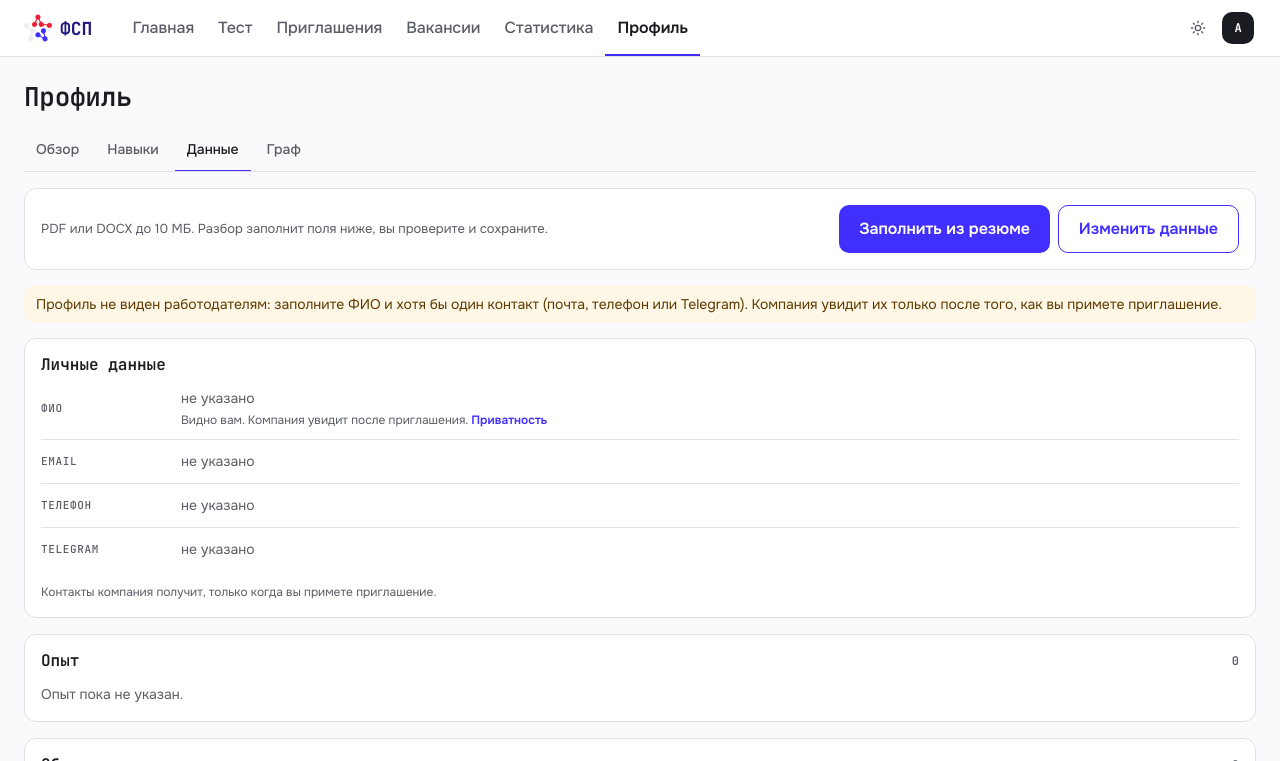
Test: данные: ручная правка — ФИО, контакты и ссылки уходят одним PATCH
Click the button with test id "profile-data-edit": (1148, 229) [1058,205,1239,253]
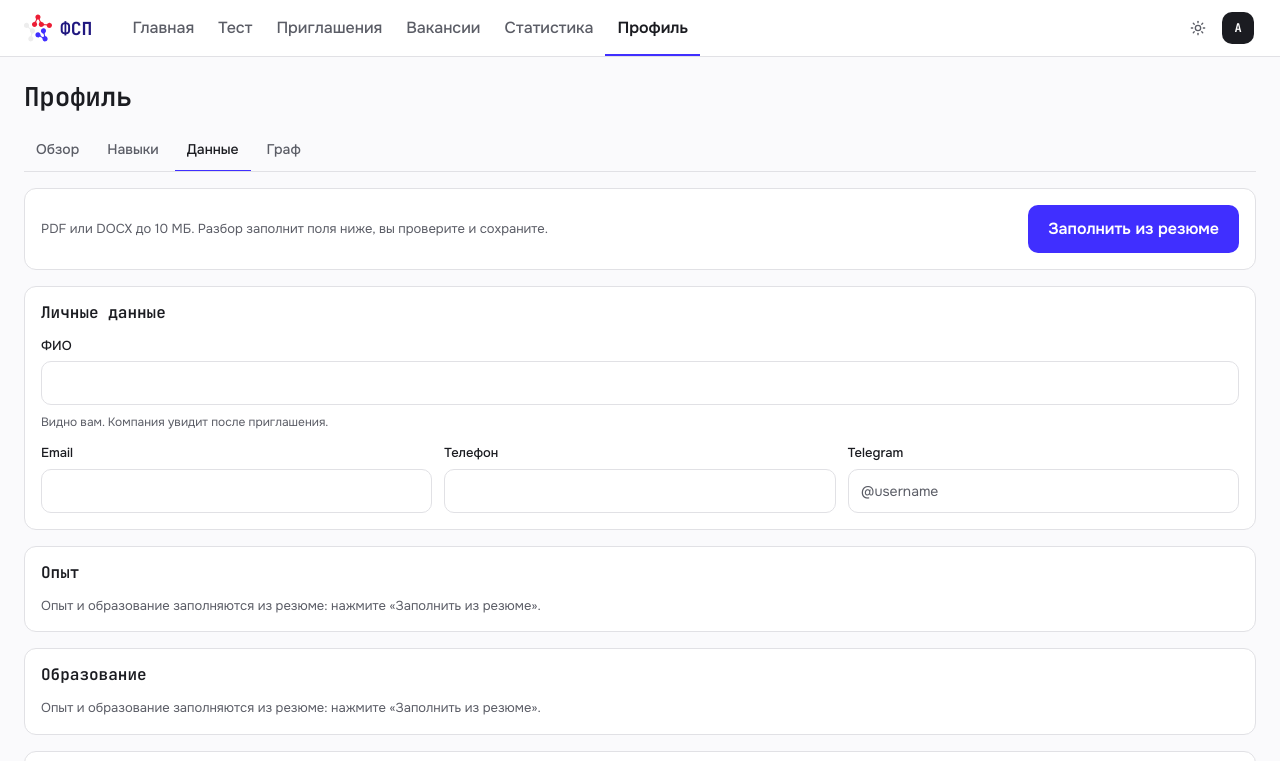
In the field with test id "profile-data-fullname": (640, 384) [41,362,1239,406], type " Пётр Петров "
In the field with test id "profile-data-email": (237, 491) [41,469,432,513], type "petr@x.test"
(page scrolled)
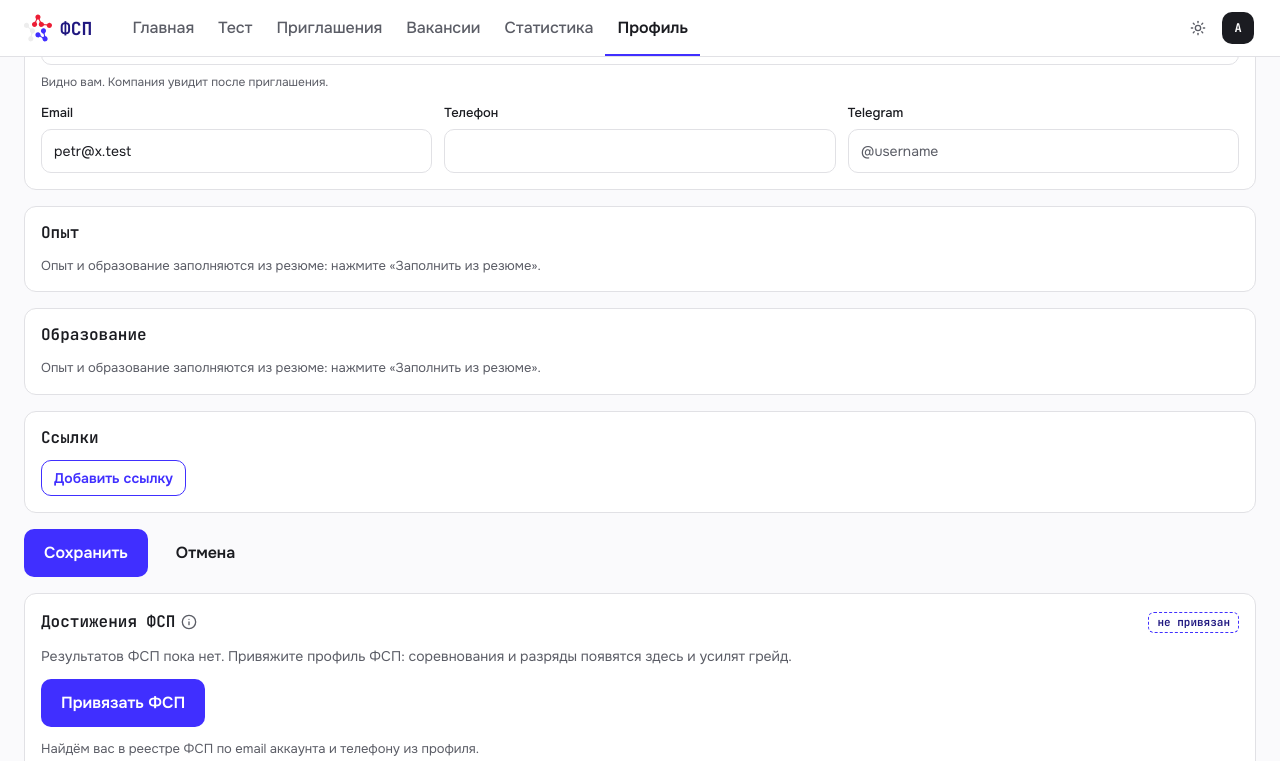
Click the button with test id "profile-data-link-add": (114, 478) [41,460,186,496]
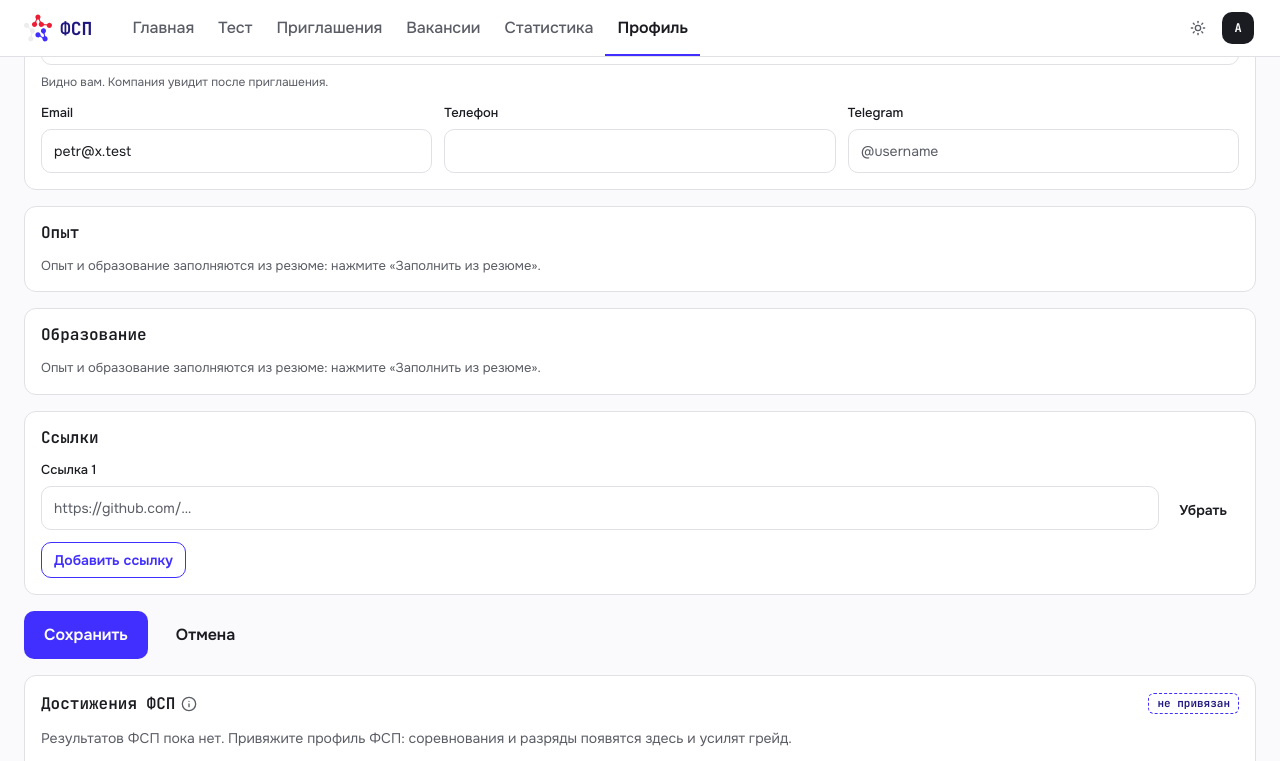
In the field with test id "profile-data-link-0": (600, 508) [41,486,1159,530], type "github.com/petr"
Click the button with test id "profile-data-save": (86, 635) [24,611,148,659]
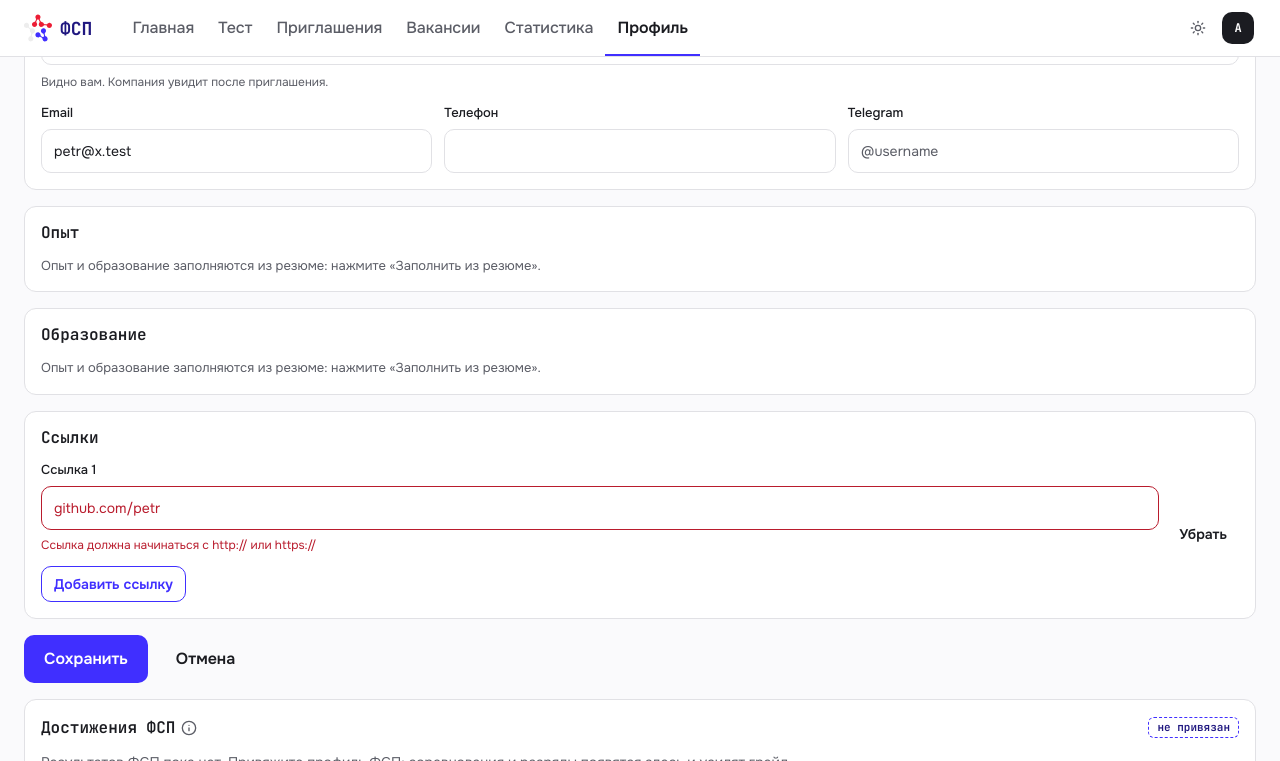
Expected: the text "Ссылка должна начинаться с http:// или https://" is shown, [41,537,316,553]
Replace the text in the field with test id "profile-data-link-0" with "https://github.com/petr": (600, 508) [41,486,1159,530]
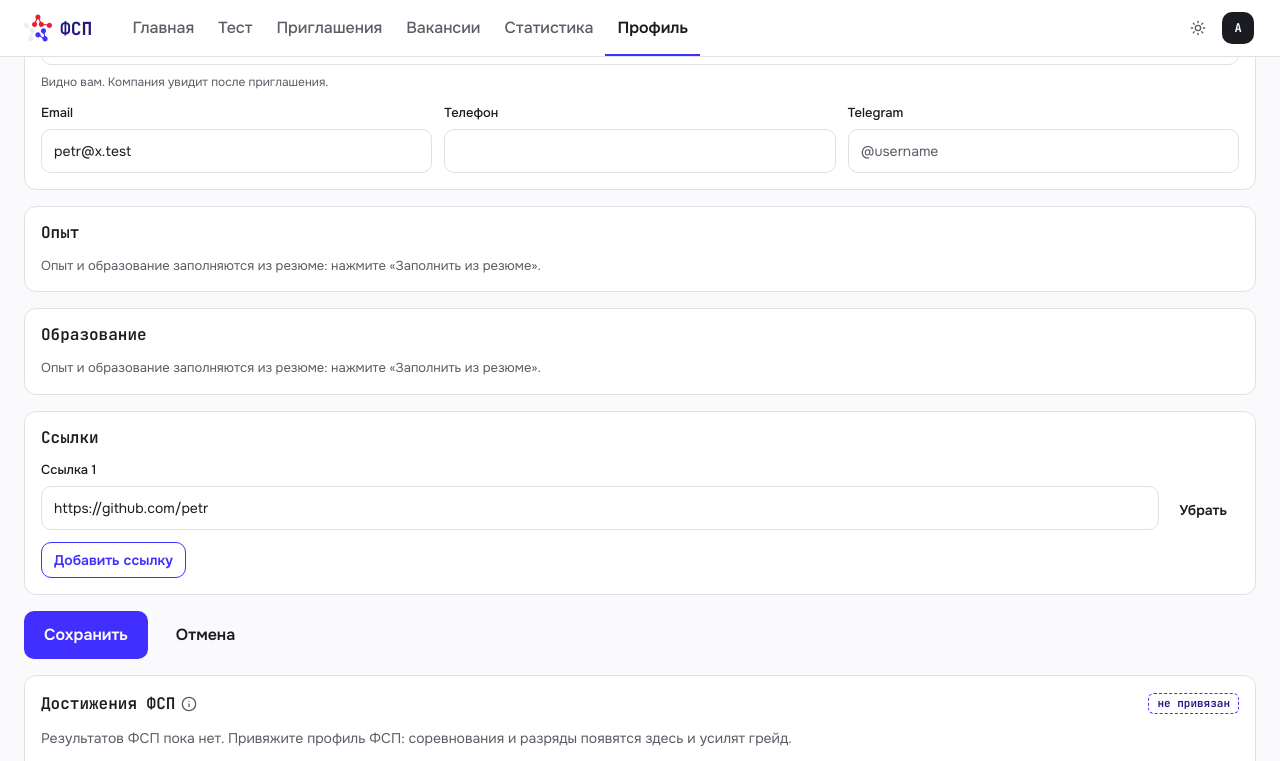
Click the button with test id "profile-data-save": (86, 635) [24,611,148,659]
(page scrolled)
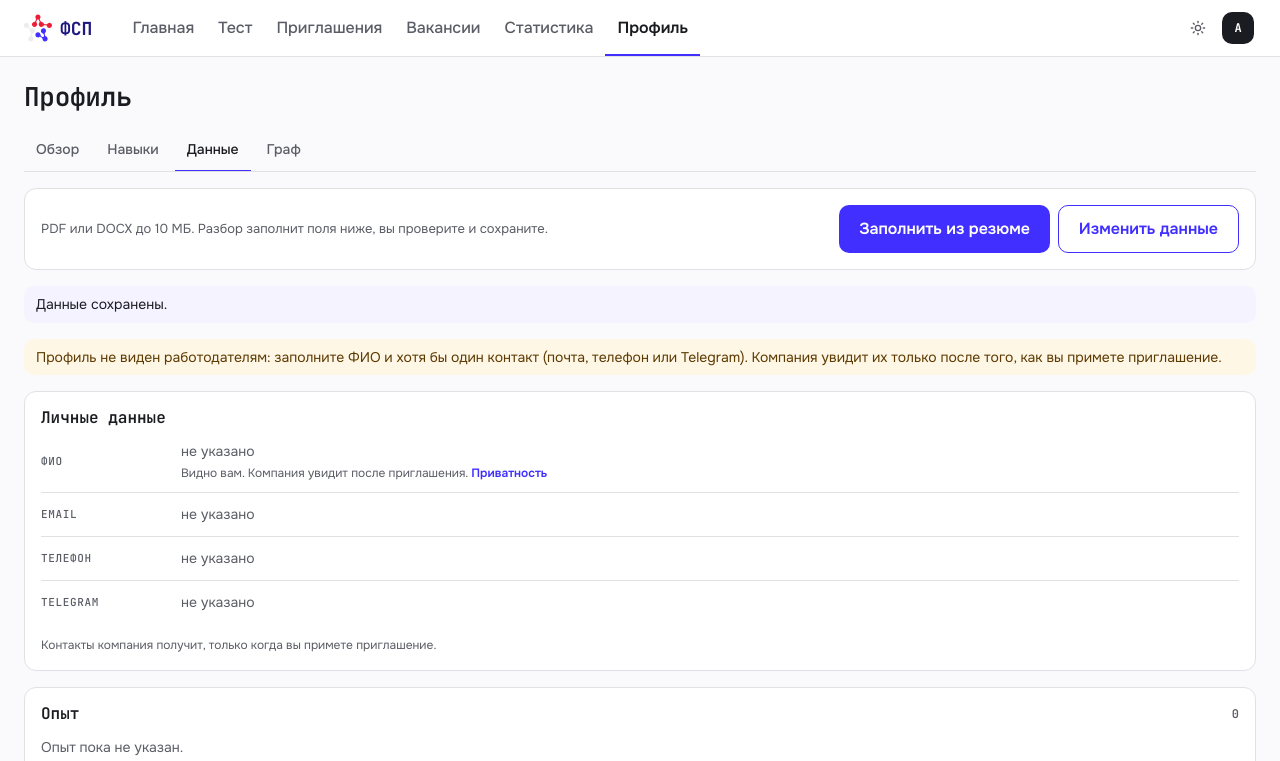
Expected: the message with test id "profile-data-saved" reads "Данные сохранены.", [36,295,167,313]
